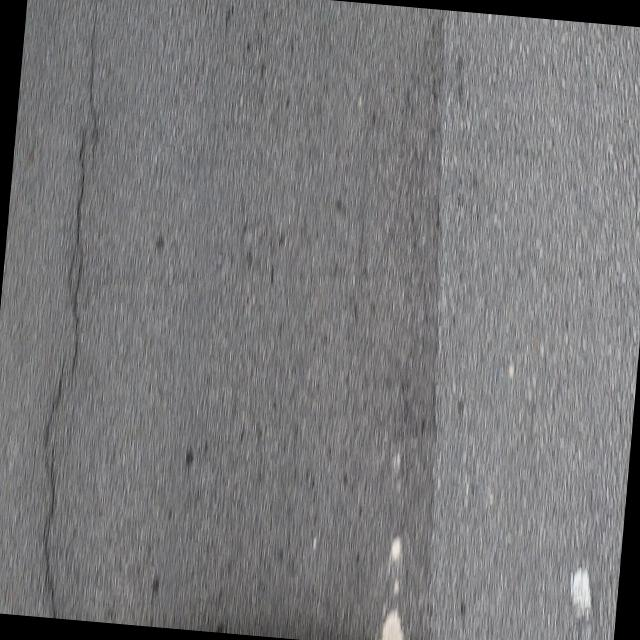Retak-Memanjang: (60, 39, 96, 401), (37, 363, 62, 617)
